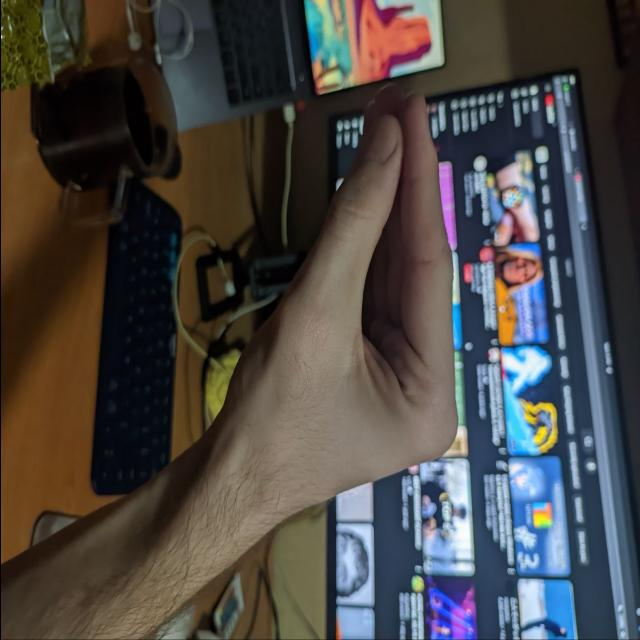zh: (252, 78, 456, 508)
